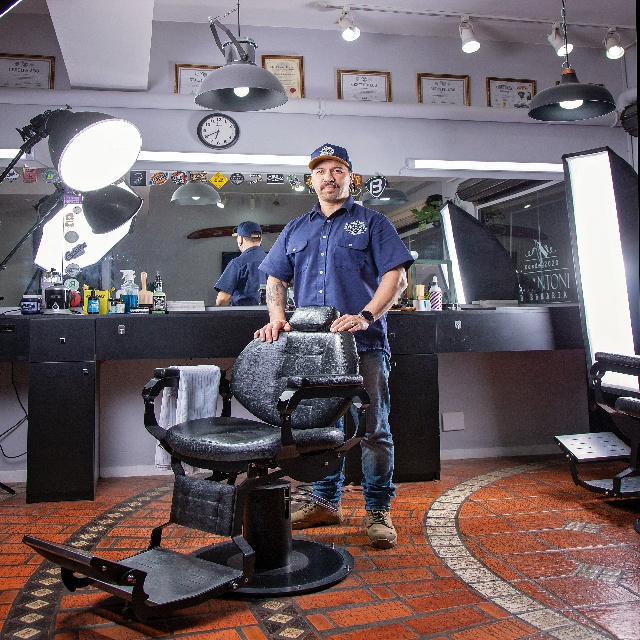Sin_guantes: (253, 319, 291, 343), (330, 313, 370, 333)
